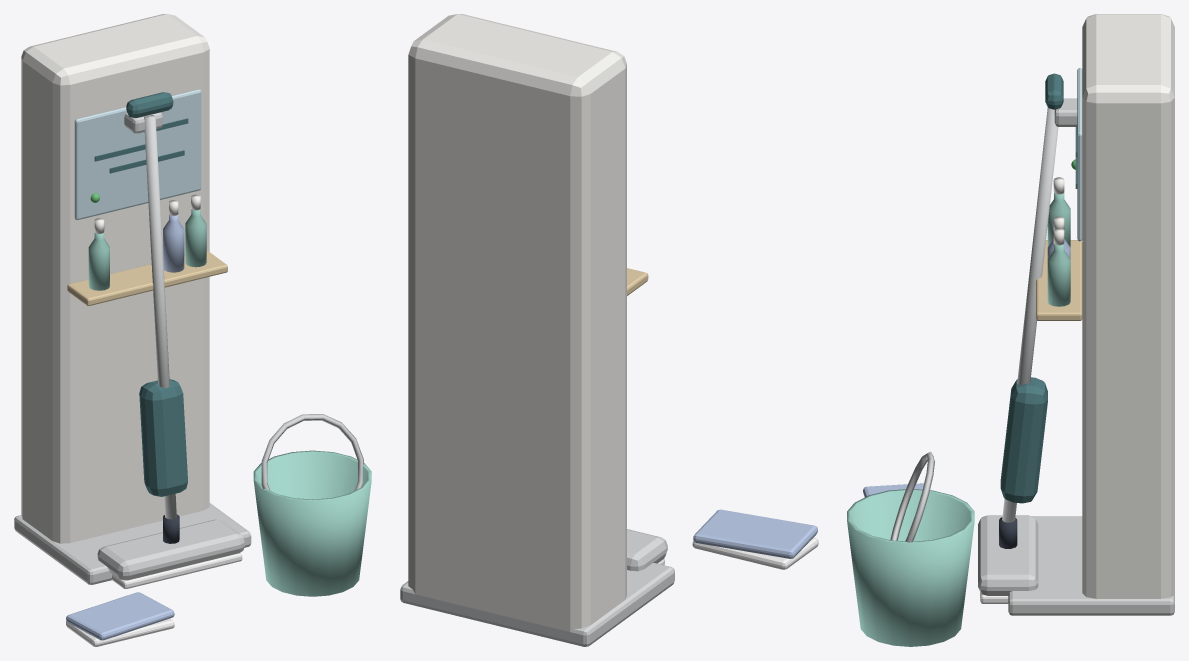
File: steamMopDock.glb
The picture shows the model from 3 angles, left to right: view 1: azimuth 30°, elevation 25°; view 2: azimuth 150°, elevation 25°; view 3: azimuth 270°, elevation 25°; orthographic projection. The views are drawn at different scales.
Parts seen in each view (by area): view 1: body, mop; view 2: body, mop; view 3: body, mop.
Boxes of the visible parts, bbox=[...] form: body: bbox=[14, 14, 371, 646]; mop: bbox=[97, 92, 244, 588]; body: bbox=[400, 14, 818, 646]; mop: bbox=[627, 529, 667, 571]; body: bbox=[847, 14, 1174, 646]; mop: bbox=[978, 73, 1063, 603].
Bounding box in the file's own units: 0.7876 × 1.25 × 0.7079.
